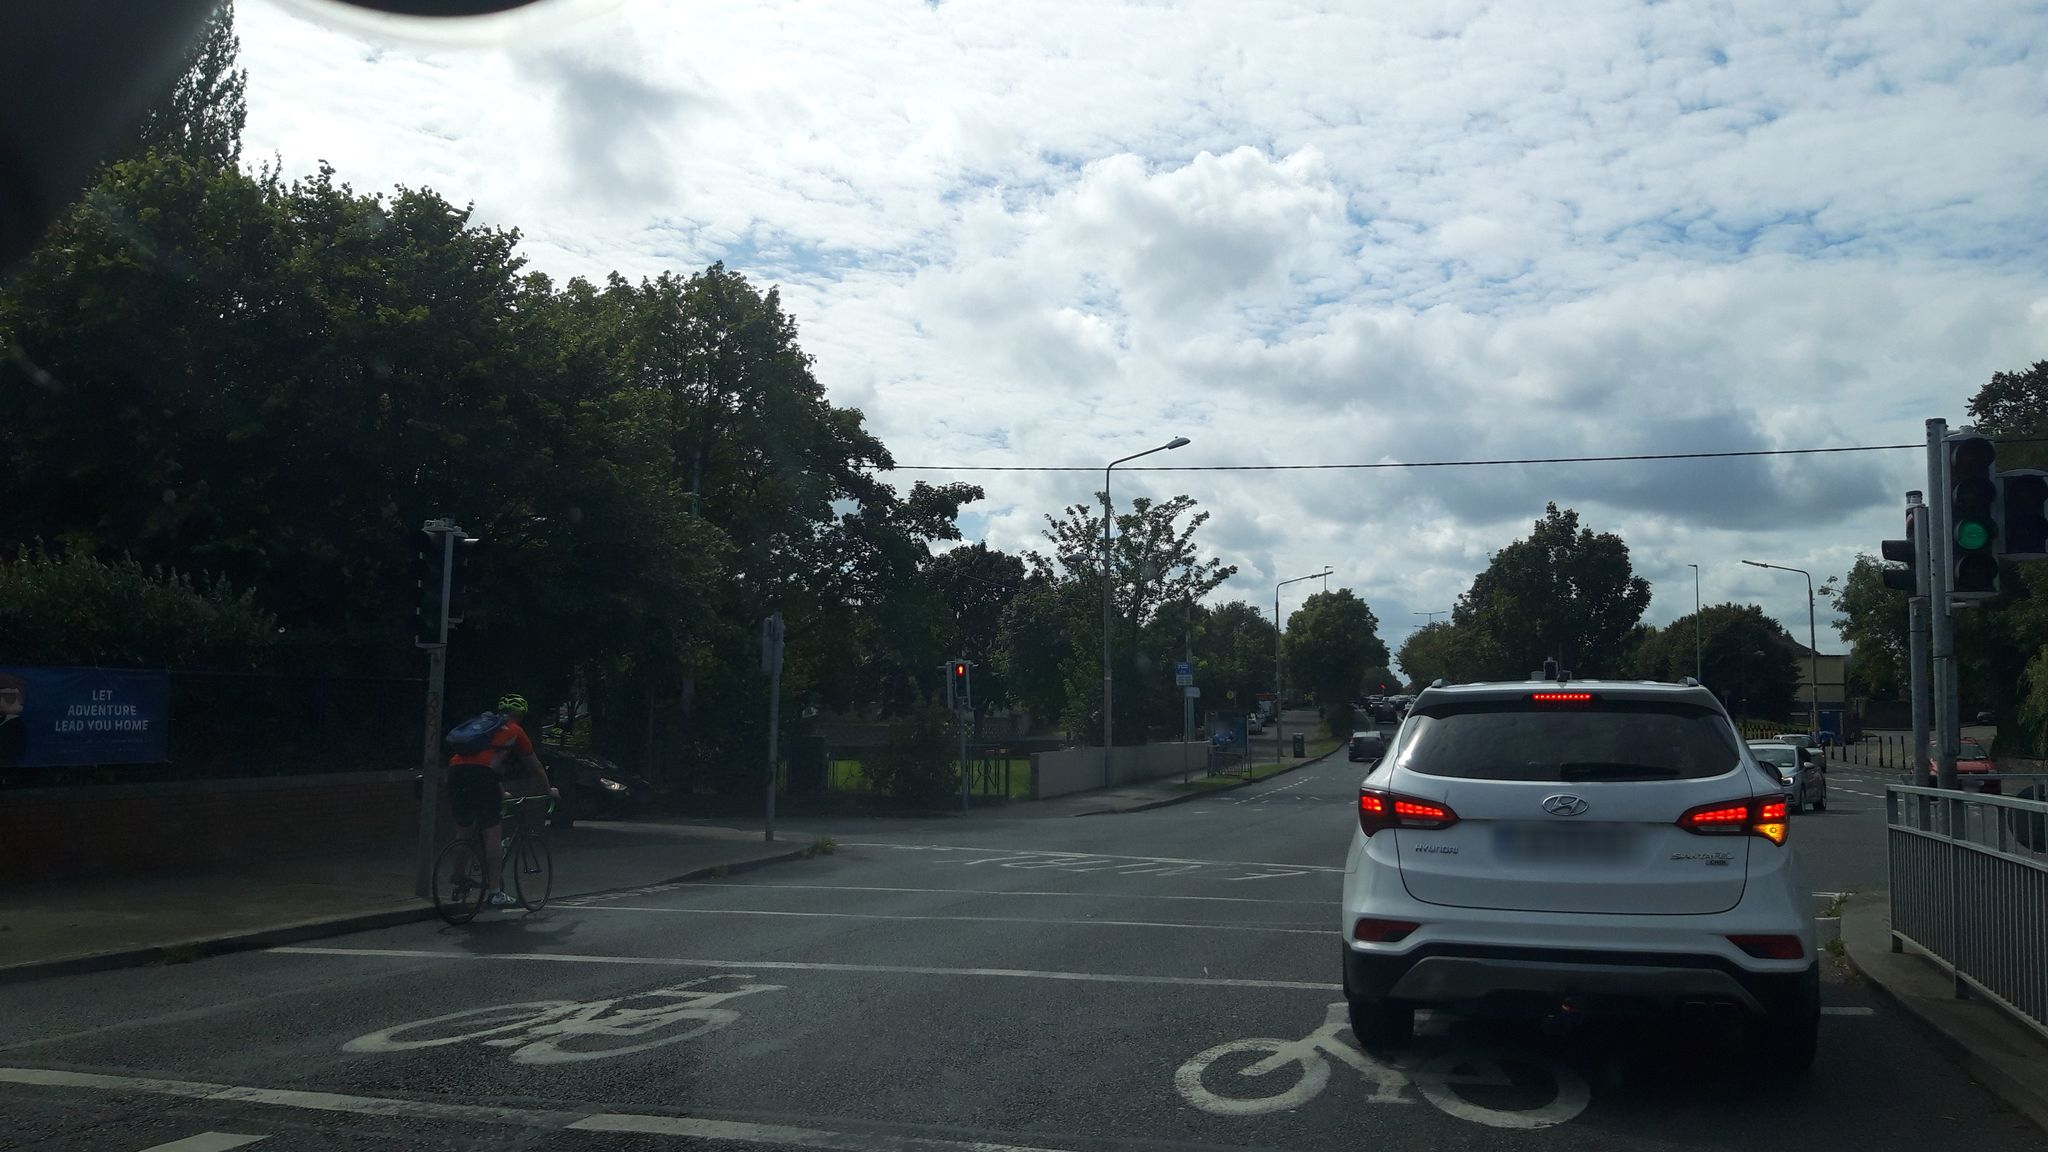vinyl banner: (1, 650, 183, 793)
